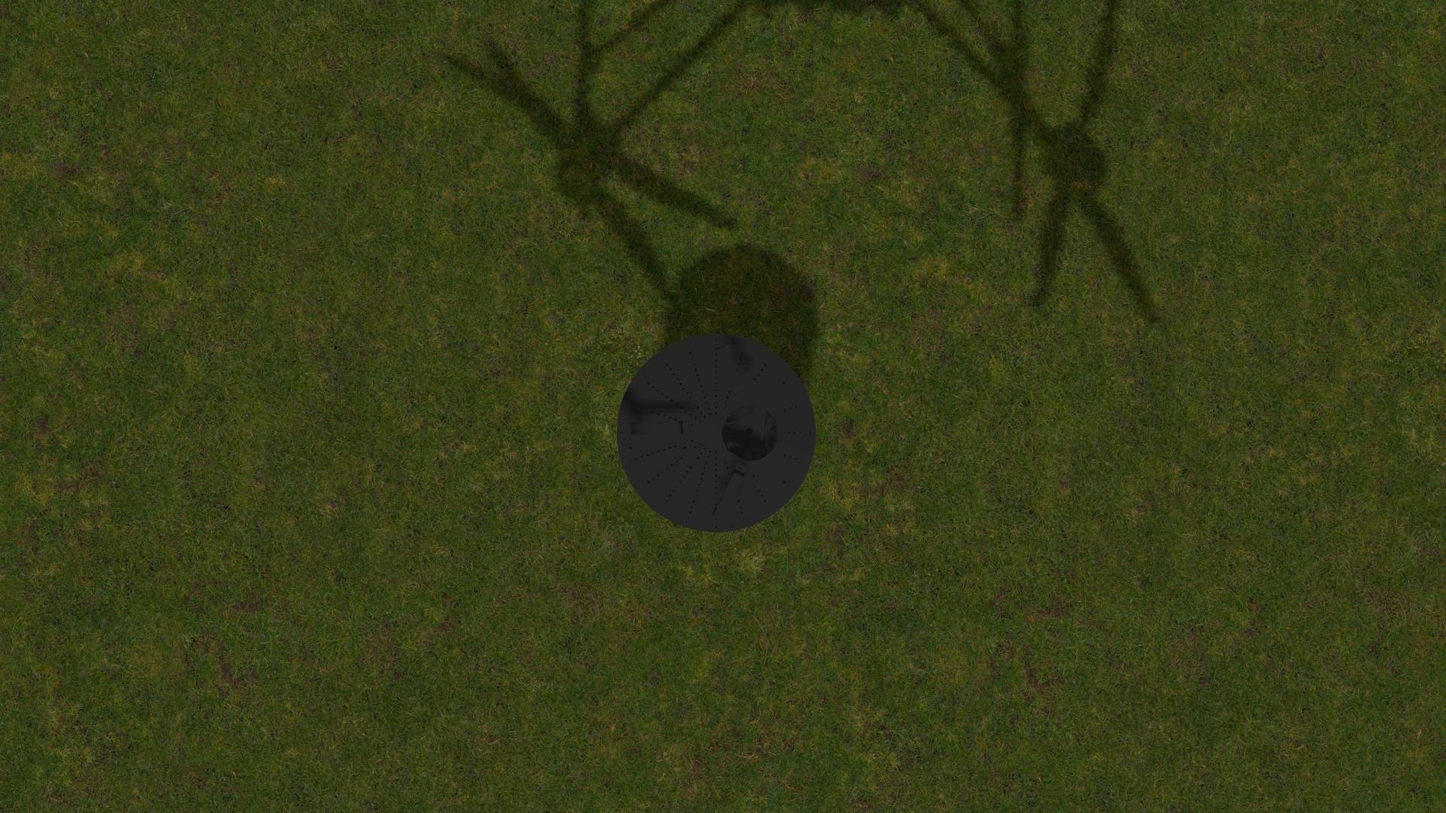alca: (710, 463, 747, 523), (713, 340, 748, 400), (627, 422, 690, 436)
armadilha: (617, 333, 816, 532)
